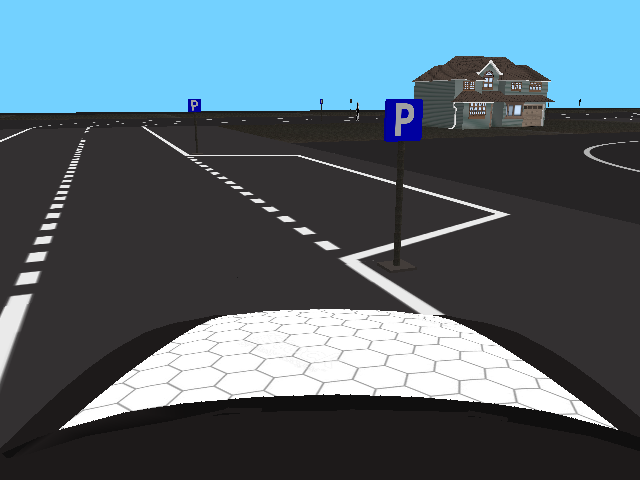parking: (383, 98, 425, 140), (187, 98, 202, 113)
